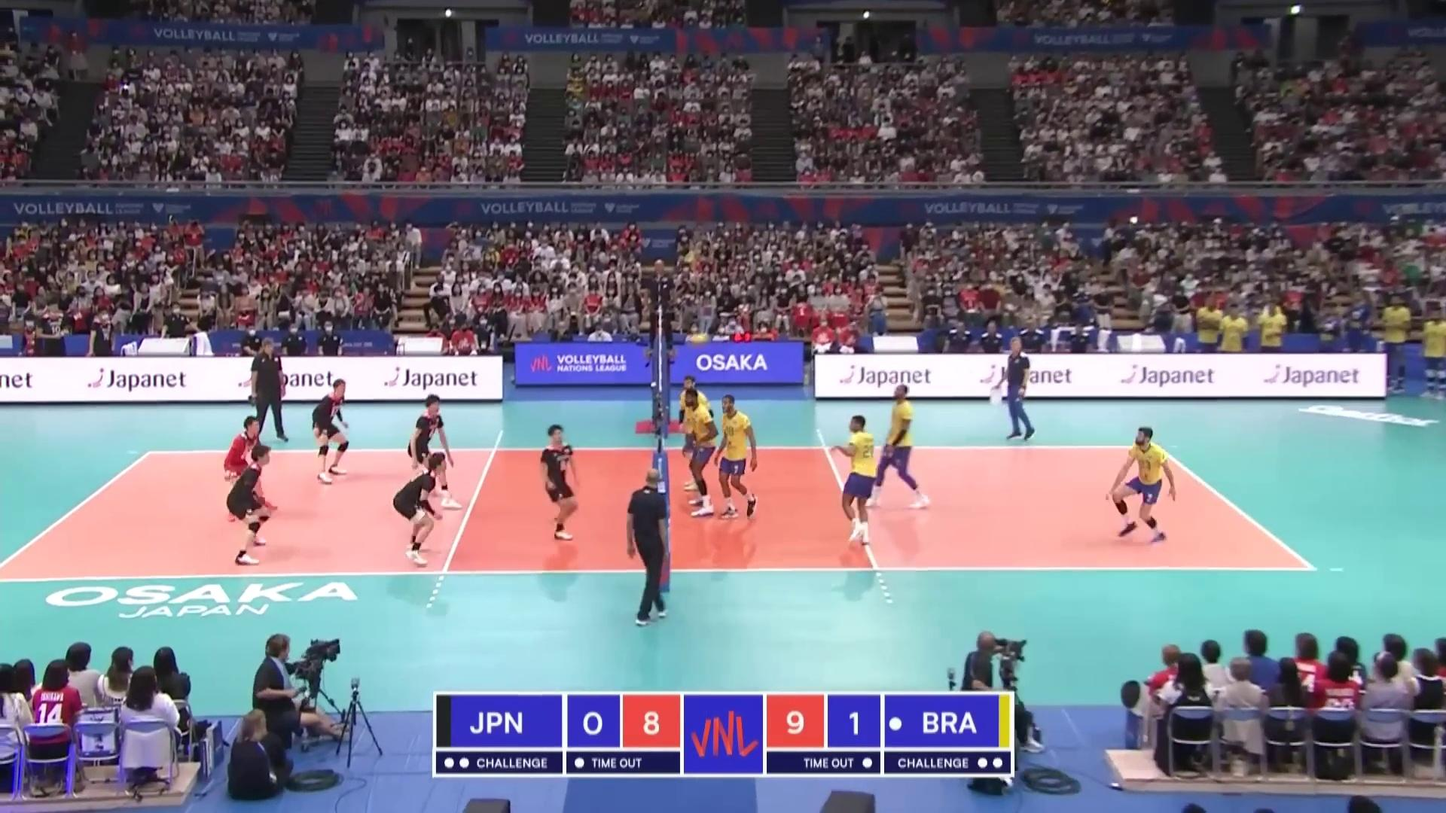player: (863, 381, 931, 509), (1109, 427, 1178, 542), (828, 415, 882, 548), (402, 395, 465, 509), (390, 453, 448, 568), (220, 446, 272, 568), (218, 417, 278, 521), (714, 395, 759, 518), (537, 425, 582, 543), (676, 372, 714, 493), (308, 377, 350, 486), (680, 394, 716, 518)
refree: (626, 469, 675, 622), (641, 257, 679, 363)
